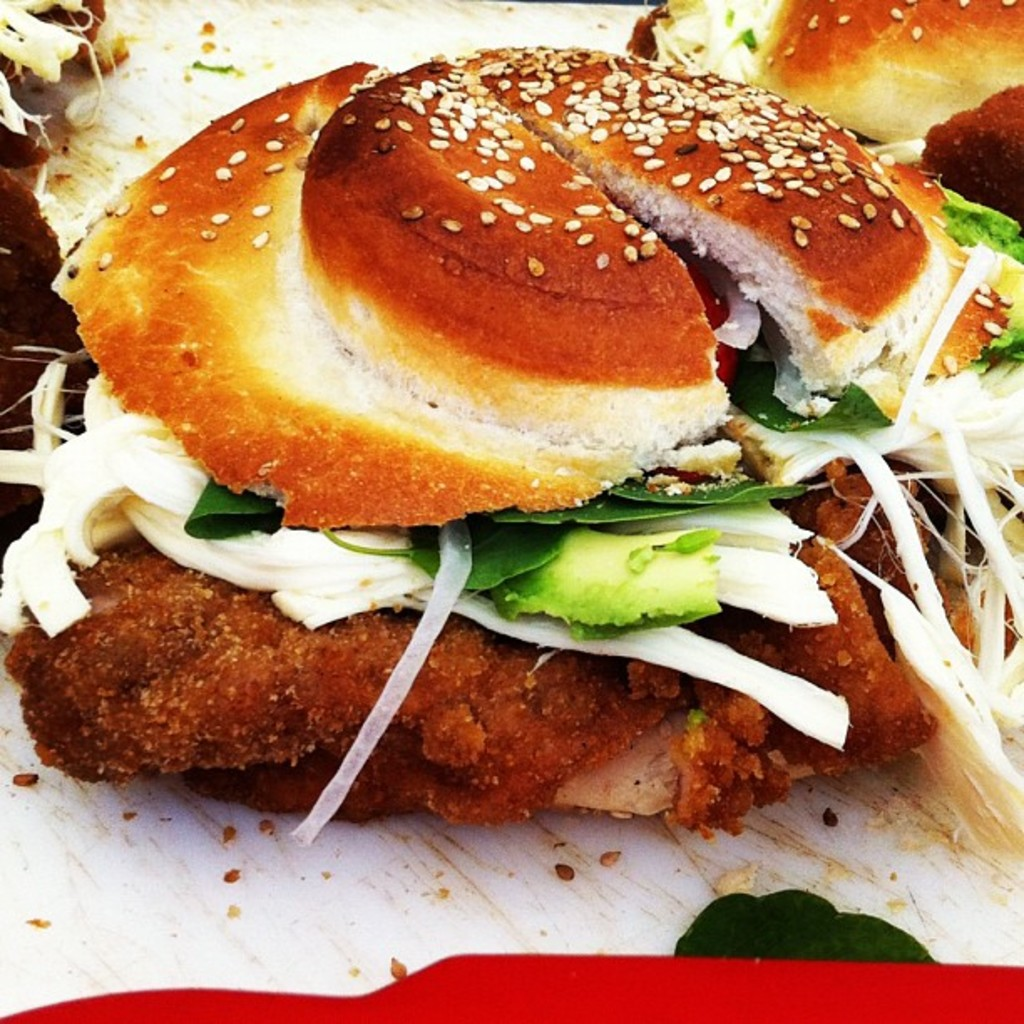Hamburger: (0, 43, 1022, 846), (749, 0, 1022, 160)
